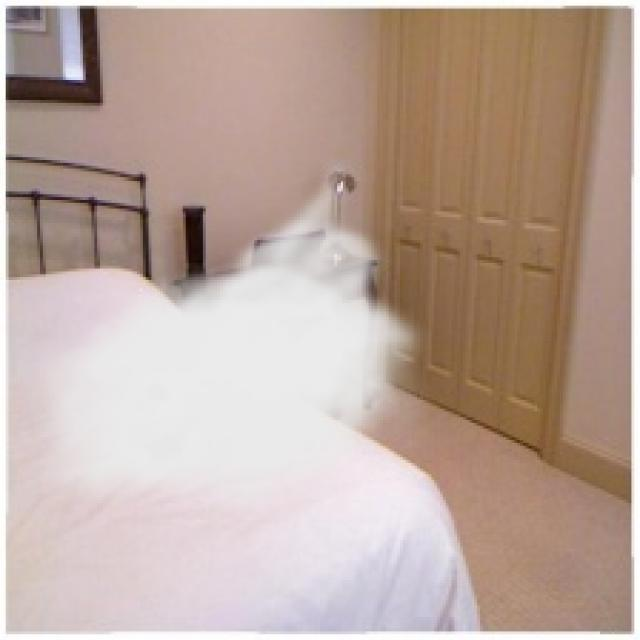Smoke: (12, 154, 434, 523)
